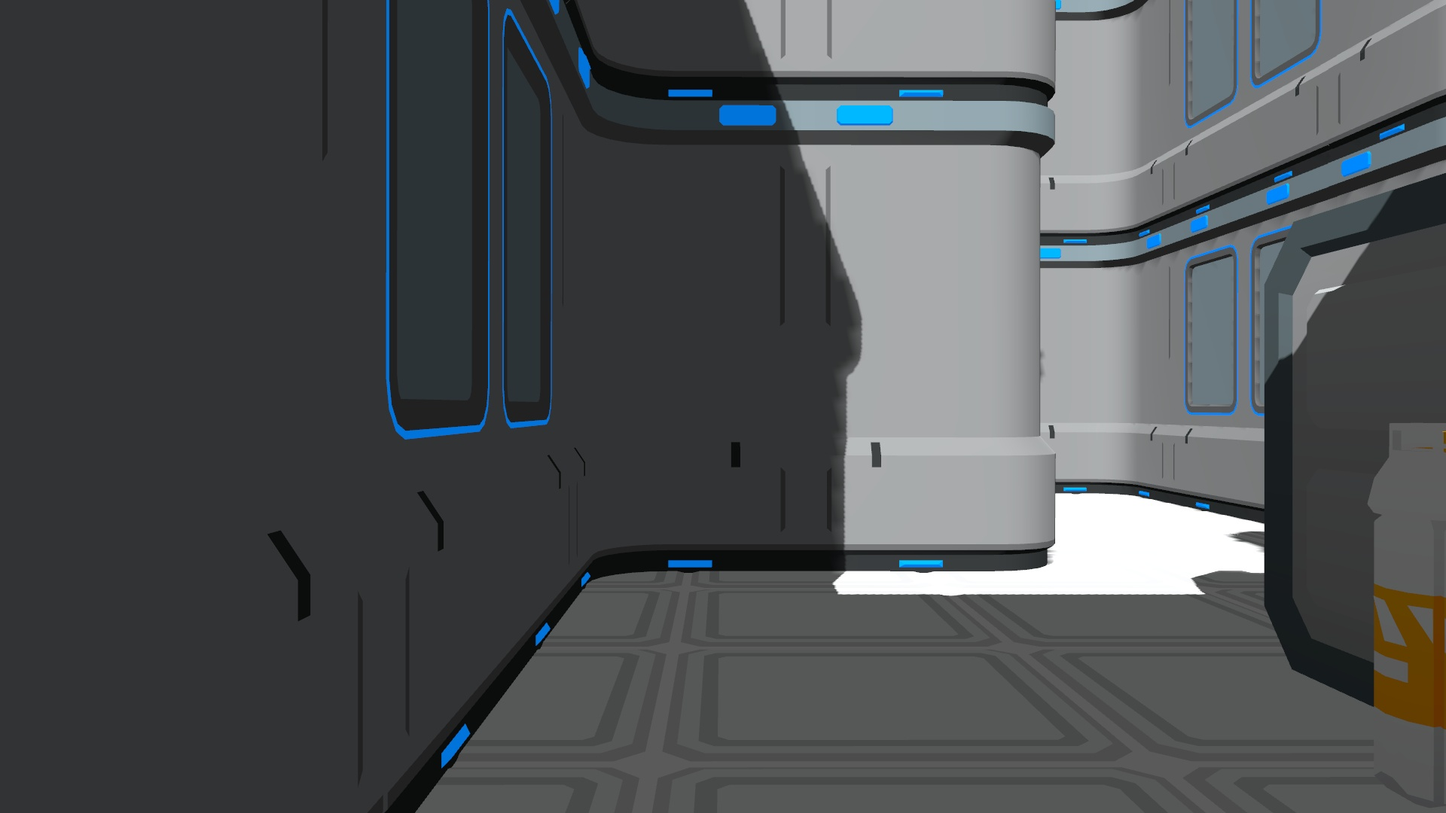yellow_barrel: (1362, 410, 1446, 813)
